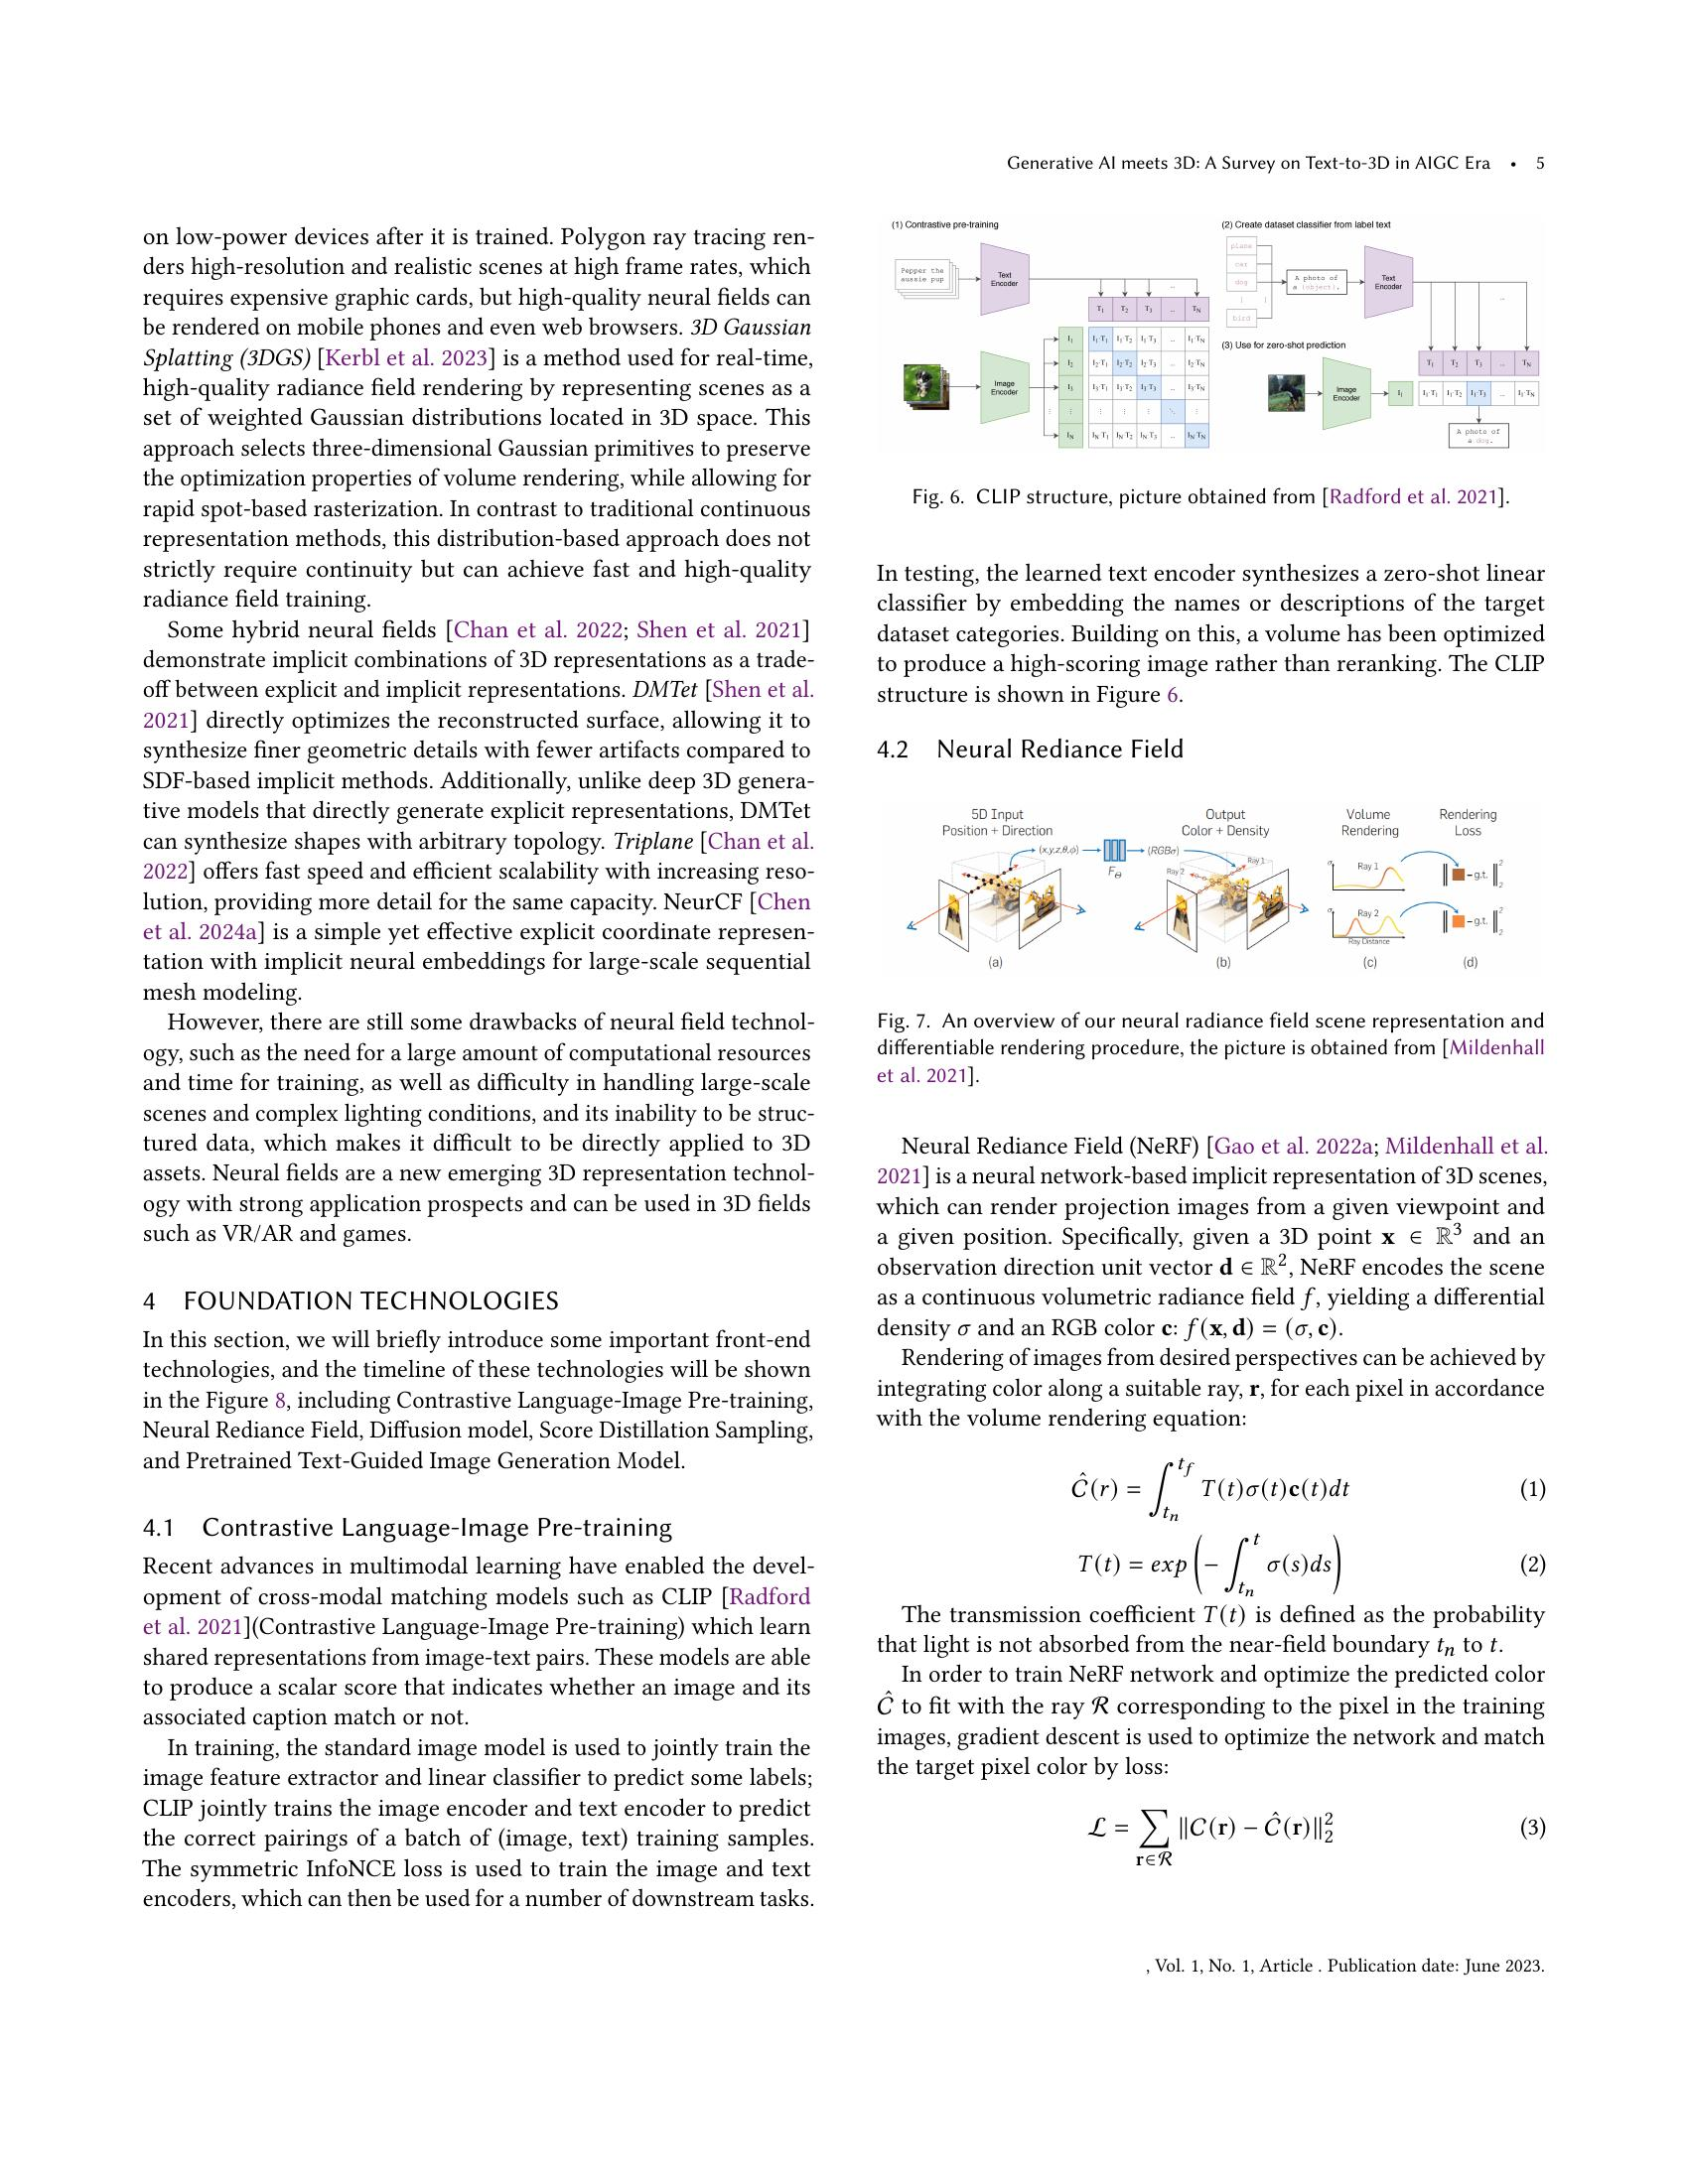figure: (883, 206, 1548, 516), (869, 798, 1553, 1096)
text: (133, 220, 821, 1009), (865, 1126, 1555, 1603), (133, 1509, 821, 1918), (865, 1597, 1555, 1877), (133, 1005, 821, 1255), (865, 551, 1555, 776), (133, 1278, 821, 1480)
